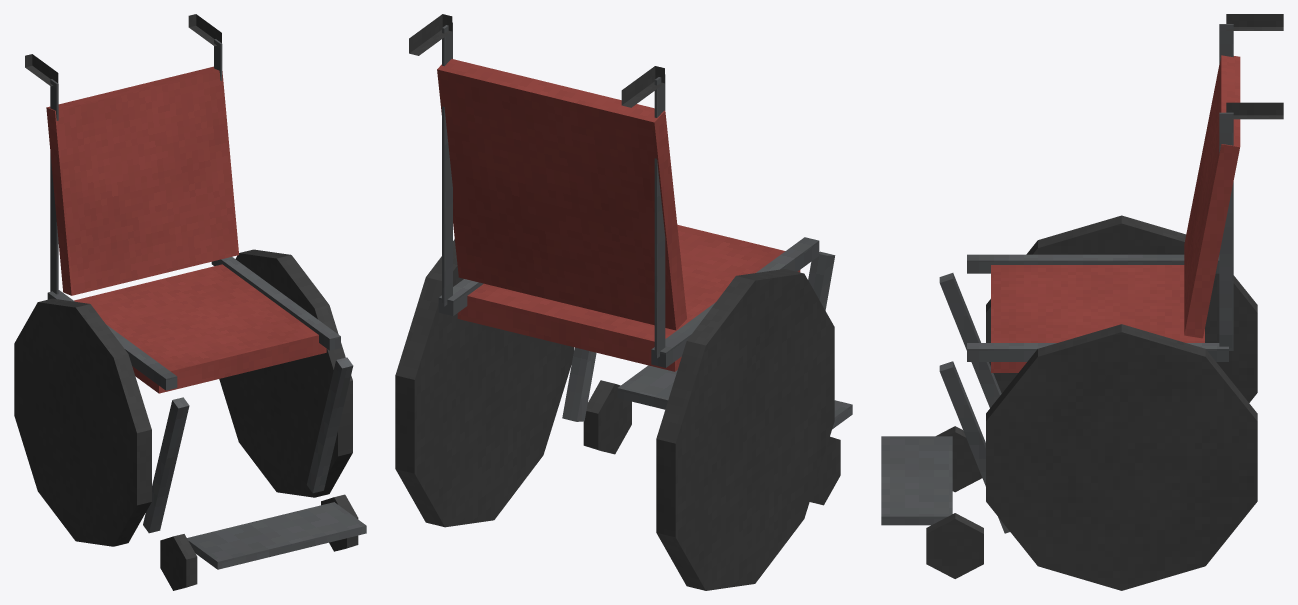
File: int_wheelchair.glb
3 renders of one model, left to right at view 1: azimuth 30°, elevation 25°; view 2: azimuth 150°, elevation 25°; view 3: azimuth 270°, elevation 25°, orthographic. The views are drawn at different scales.
Parts seen in each view (by area): view 1: detail, chair-col; view 2: detail, chair-col; view 3: detail, chair-col.
Part boxes in pixels (left/top/right/bottom): detail: left=14, top=14, right=366, bottom=590; chair-col: left=46, top=66, right=326, bottom=393; detail: left=395, top=14, right=852, bottom=590; chair-col: left=437, top=59, right=800, bottom=371; detail: left=881, top=14, right=1283, bottom=590; chair-col: left=991, top=55, right=1240, bottom=372.
Size of what is drawn, in the model's own units: 0.58 by 1.1 by 0.845.
Materials: 3 (3 with a texture image).
